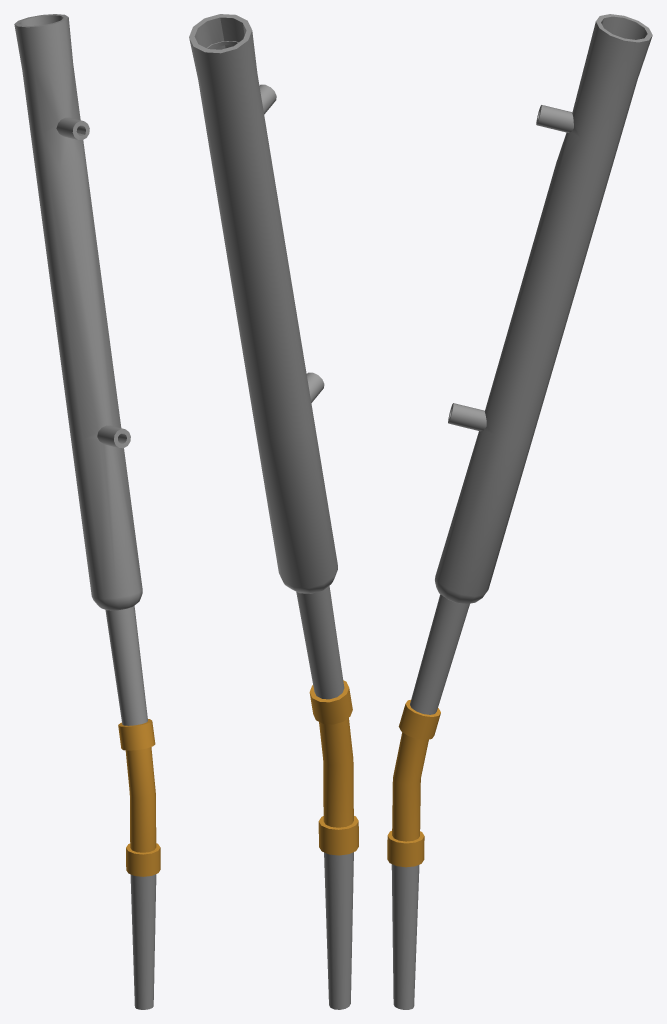
File: SM_冷凝管_001.fbx
The picture shows the model from 3 angles, left to right: view 1: azimuth 30°, elevation 25°; view 2: azimuth 150°, elevation 25°; view 3: azimuth 270°, elevation 25°; orthographic projection. The views are drawn at different scales.
Parts seen in each view (by area): view 1: SM_冷凝管_001; view 2: SM_冷凝管_001; view 3: SM_冷凝管_001.
Part boxes in pixels (box(x1,y1,x2,y2)): SM_冷凝管_001: box(14, 14, 160, 1009); SM_冷凝管_001: box(189, 14, 358, 1009); SM_冷凝管_001: box(387, 14, 652, 1009).
Bounding box in the file's own units: 0.0238 × 0.4392 × 0.1073.
